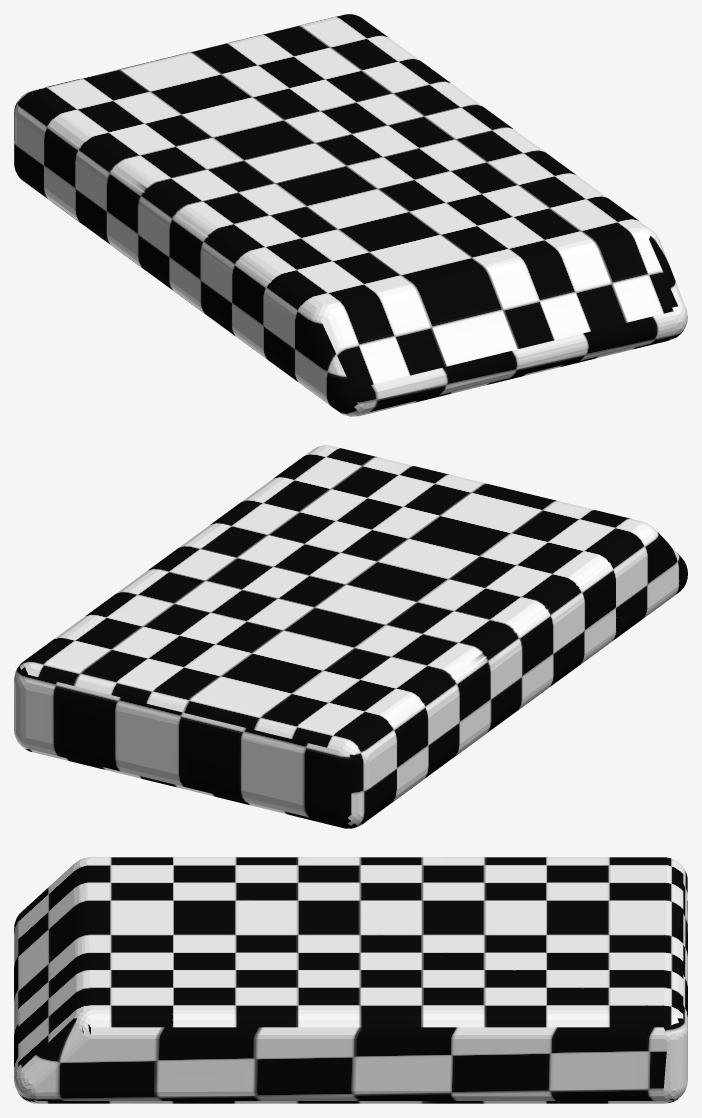
The model's file is Leg3.dae.
The picture shows the model from 3 angles, top to bottom: view 1: azimuth 30°, elevation 25°; view 2: azimuth 150°, elevation 25°; view 3: azimuth 270°, elevation 25°; orthographic projection.
Visible parts, largest first — view 1: leg3; view 2: leg3; view 3: leg3.
Part boxes in pixels (x1,y1,x2,y2): leg3: (14, 14, 687, 416); leg3: (14, 445, 687, 828); leg3: (14, 857, 687, 1103).
Size of the model in its own units: 0.2 by 0.333 by 0.05.
Materials: 1 (1 with a texture image).
